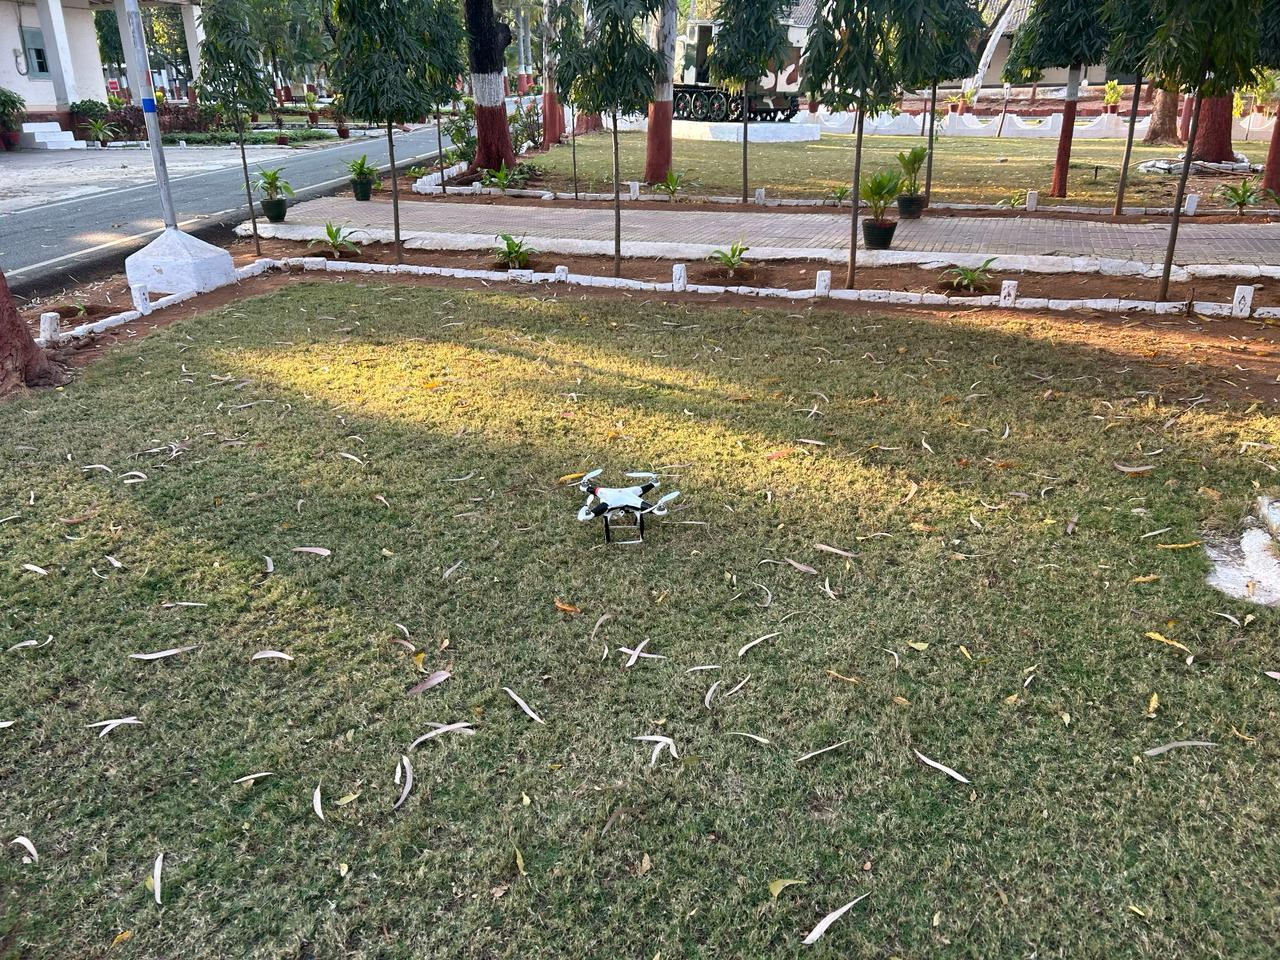drone: (538, 439, 710, 563)
